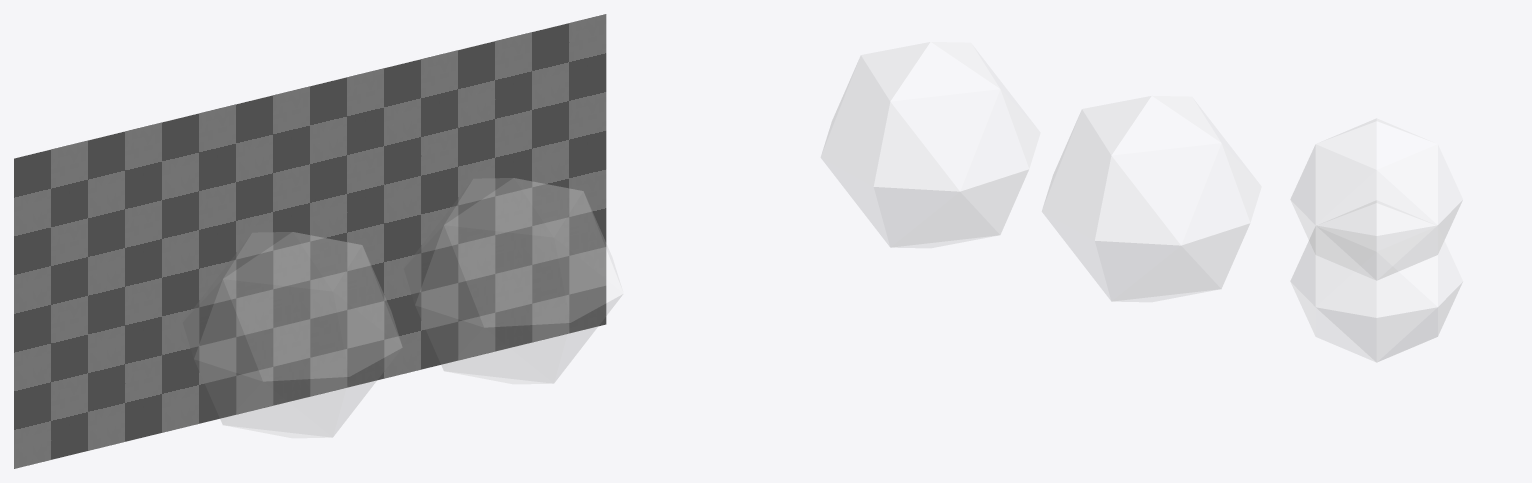
Rendered from CompareDispersion.glb.
The picture shows the model from 3 angles, left to right: view 1: azimuth 30°, elevation 25°; view 2: azimuth 150°, elevation 25°; view 3: azimuth 270°, elevation 25°; orthographic projection. The views are drawn at different scales.
Parts seen in each view (by area): view 1: Checker, GeoSphere001, GeoSphere002; view 2: GeoSphere001, GeoSphere002; view 3: GeoSphere002, GeoSphere001.
Part boxes in pixels (x1,y1,x2,y2): Checker: [14, 14, 606, 468]; GeoSphere001: [183, 232, 402, 437]; GeoSphere002: [404, 178, 623, 383]; GeoSphere001: [1042, 96, 1260, 301]; GeoSphere002: [821, 42, 1039, 247]; GeoSphere002: [1290, 200, 1462, 361]; GeoSphere001: [1290, 118, 1462, 279].
Bounding box in the file's own units: 3 × 1.5 × 1.32.
3 materials, 1 textured.
